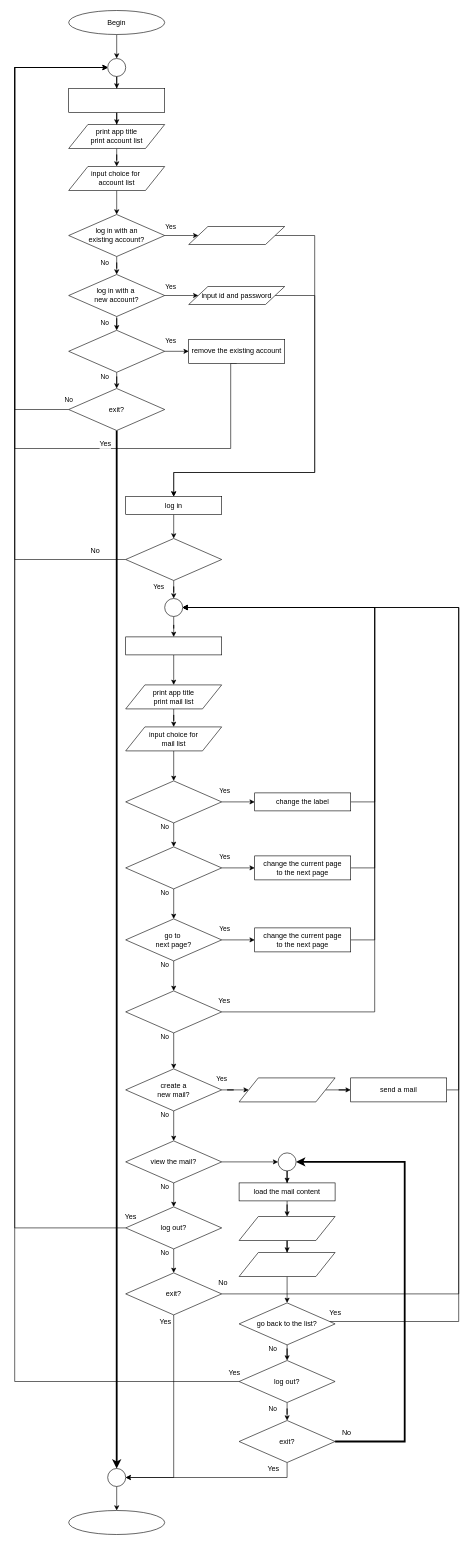
The diagram is 474 pixels wide and 1545 high, and some of its shapes have lost their labels. Here are the shapes that lost their labels. From the top down, the box of each, then its label:
(68, 88, 165, 112): read google account id list from file
(188, 226, 285, 244): input password
(68, 330, 165, 372): remove an account?
(125, 538, 222, 580): log in succeed?
(125, 636, 222, 655): load mail list
(125, 780, 222, 823): change label?
(125, 846, 222, 889): go to previous page?
(125, 990, 222, 1033): refresh mail list?
(238, 1077, 335, 1102): input To, Subject, Body, Attachment
(238, 1216, 335, 1240): print app title print mail content
(238, 1252, 335, 1276): input choice for mail content
(68, 1510, 165, 1534): End
